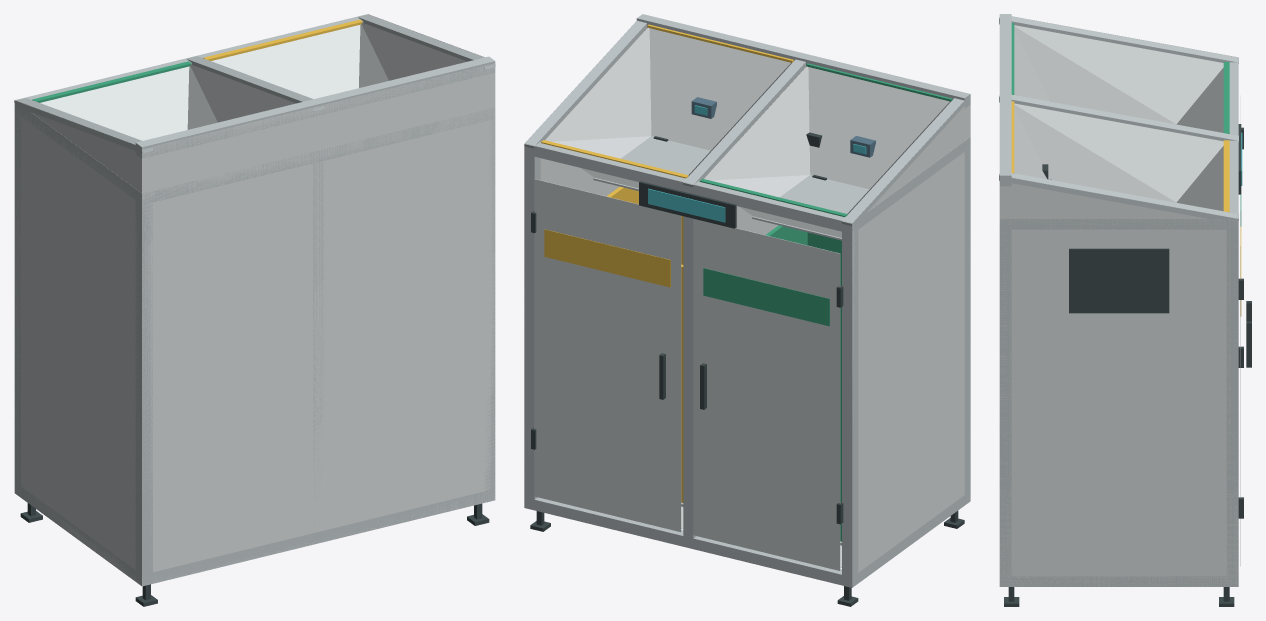
The model's file is Trash-Smart.glb.
3 views of the same model, side by side, from view 1: azimuth 30°, elevation 25°; view 2: azimuth 150°, elevation 25°; view 3: azimuth 270°, elevation 25° (orthographic). The views are drawn at different scales.
Visible parts, largest first — view 1: Panel belakang, Panel sisi, Dinding baki deteksi (×4), Tiang rangka (×4), Palang 800 (×3), Palang belakang atap, Rangka atap miring (×3), Palang kedalaman (×2), Penutup segitiga samping, Bibir baki (×2); view 2: Pintu servis (×2), Panel sisi (×2), Dinding baki deteksi (×5), Tiang rangka (×4), Palang 800 (×2), Label kategori (×2), Rangka atap miring (×3), Tutup dasar baki (×2), Palang belakang atap, Bibir baki (×4), Palang kedalaman (×2), Penutup segitiga samping (+4 smaller); view 3: Panel sisi, Dinding baki deteksi (×6), Tiang rangka (×2), Pelat QR placeholder, Rangka atap miring (×3), Palang kedalaman (×2), Penutup segitiga samping, Palang belakang atap, Palang 800, Bibir baki (×2).
Boxes of the visible parts, x1,y1,x2,y2 form: Panel belakang: (142, 63, 495, 585); Panel sisi: (14, 101, 142, 585); Dinding baki deteksi (×4): (40, 22, 466, 140); Tiang rangka (×4): (14, 112, 495, 574); Palang 800 (×3): (14, 14, 495, 586); Palang belakang atap: (135, 56, 495, 158); Rangka atap miring (×3): (14, 14, 495, 153); Palang kedalaman (×2): (21, 105, 135, 581); Penutup segitiga samping: (17, 101, 141, 192); Bibir baki (×2): (32, 19, 362, 102); Pintu servis (×2): (534, 179, 840, 570); Panel sisi (×2): (524, 139, 970, 572); Dinding baki deteksi (×5): (545, 27, 949, 237); Tiang rangka (×4): (524, 148, 970, 576); Palang 800 (×2): (524, 141, 858, 587); Label kategori (×2): (544, 229, 829, 326); Rangka atap miring (×3): (524, 20, 970, 226); Tutup dasar baki (×2): (593, 136, 869, 240); Palang belakang atap: (636, 14, 970, 108); Bibir baki (×4): (541, 24, 952, 217); Palang kedalaman (×2): (858, 141, 964, 583); Penutup segitiga samping: (855, 103, 970, 219); Panel sisi: (999, 219, 1238, 586); Dinding baki deteksi (×6): (1014, 25, 1223, 211); Tiang rangka (×2): (999, 229, 1238, 576); Pelat QR placeholder: (1069, 248, 1169, 313); Rangka atap miring (×3): (999, 16, 1238, 223); Palang kedalaman (×2): (1011, 219, 1226, 586); Penutup segitiga samping: (1000, 178, 1237, 218); Palang belakang atap: (999, 14, 1011, 186); Palang 800: (1226, 57, 1238, 229); Bibir baki (×2): (1223, 62, 1229, 212).
Size of the model in its own units: 0.802 by 1 by 0.5292.
